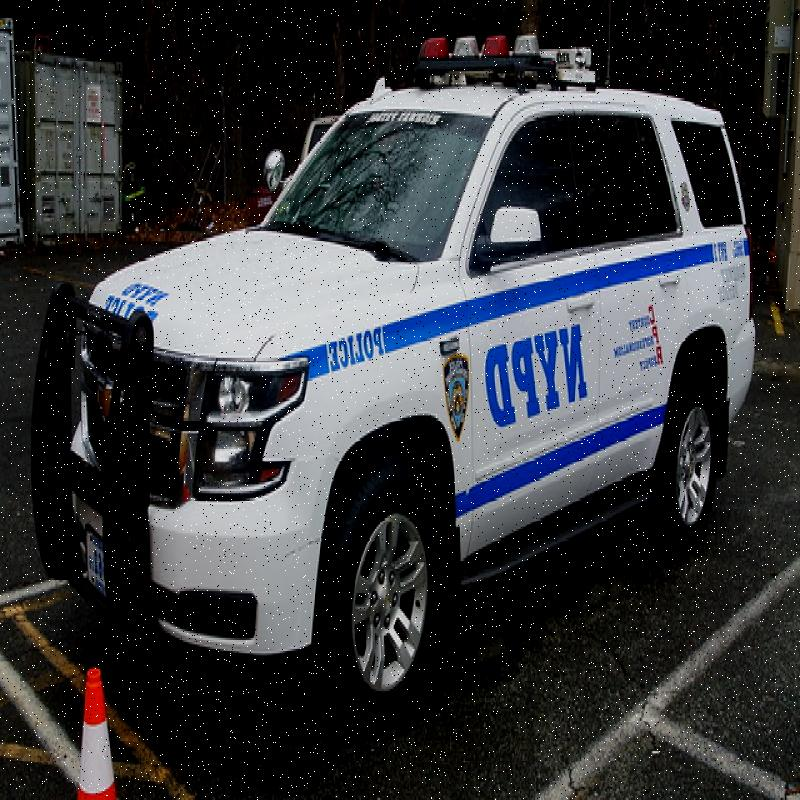AmbulanceSiren: (404, 0, 578, 80)
